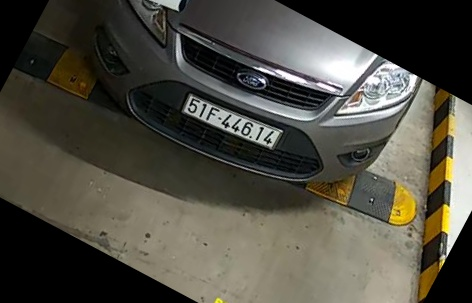plate: (177, 89, 285, 151)
